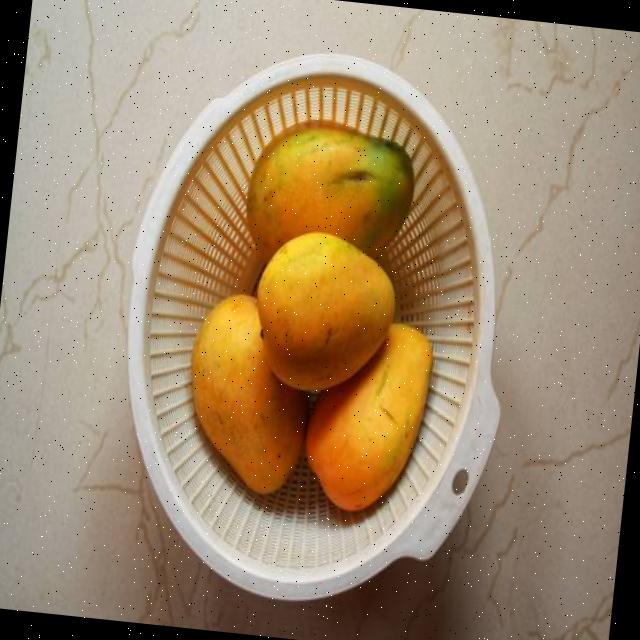mango: (305, 324, 432, 510), (191, 296, 308, 493), (246, 122, 414, 257), (257, 233, 395, 391)
